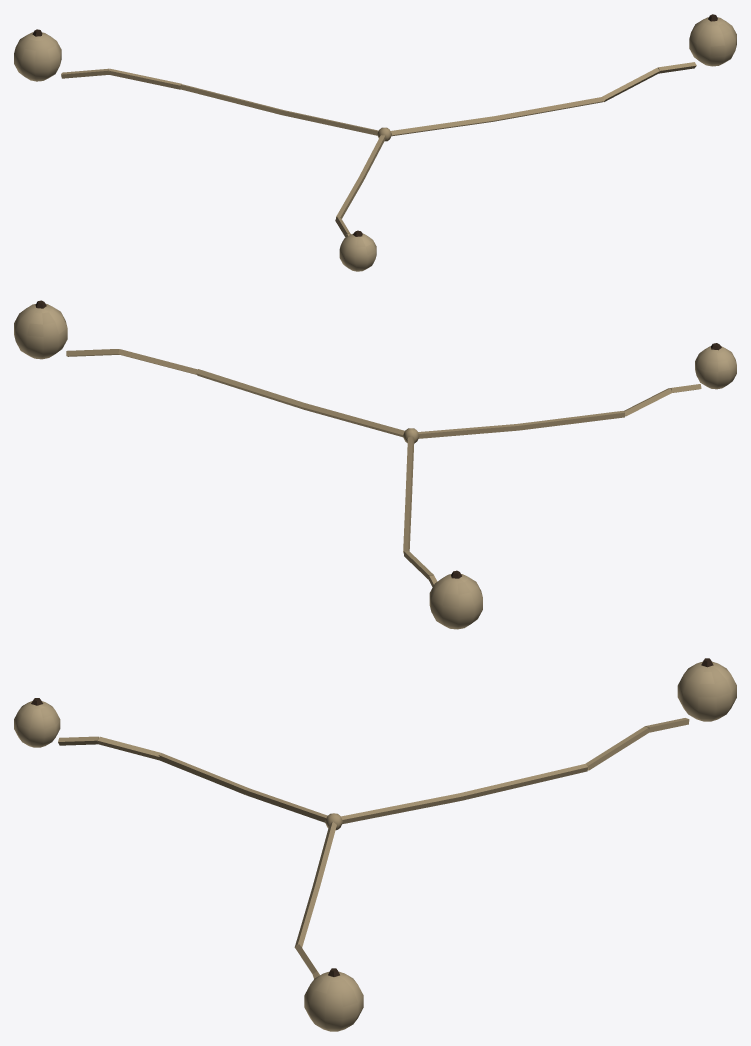
File: boleadoras.glb
3 renders of one model, top to bottom at view 1: azimuth 30°, elevation 25°; view 2: azimuth 150°, elevation 25°; view 3: azimuth 270°, elevation 25°, orthographic. The views are drawn at different scales.
Visible parts, largest first — view 1: Boleadoras; view 2: Boleadoras; view 3: Boleadoras.
Boxes of the visible parts, <box> form: Boleadoras: <box>14,14,736,271</box>; Boleadoras: <box>14,300,736,629</box>; Boleadoras: <box>14,658,736,1031</box>.
Bounding box in the file's own units: 1.2 × 0.0989 × 1.1.
